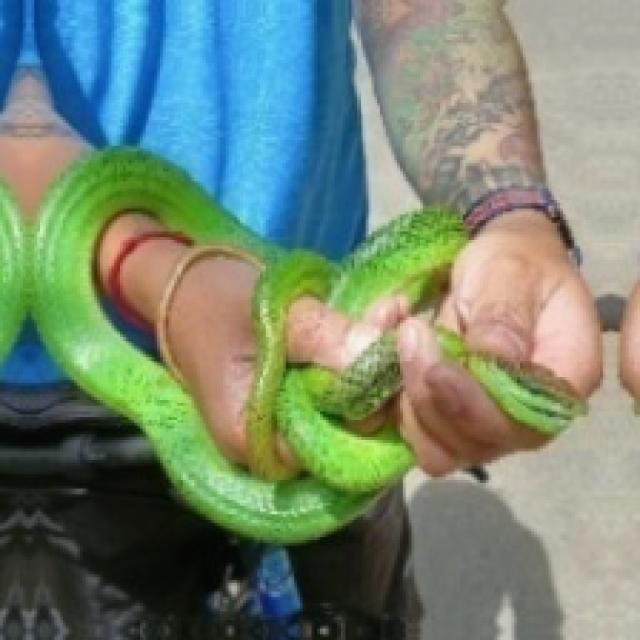red-tailed green ratsnake: (0, 150, 468, 543), (435, 328, 584, 436)
